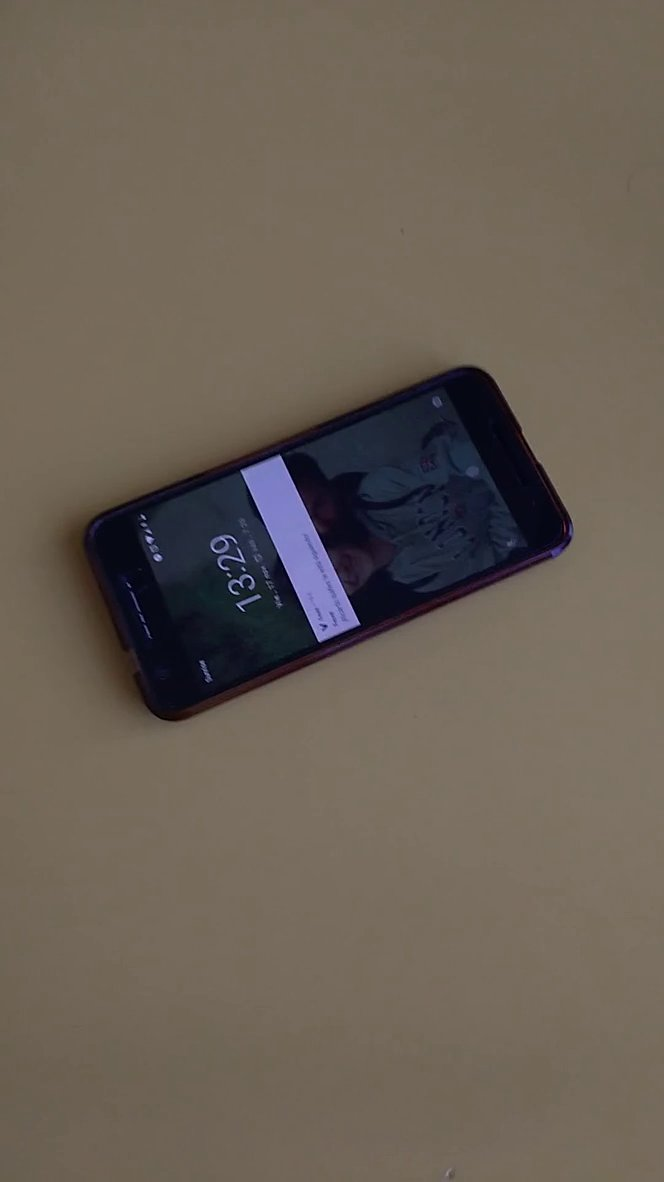phone: (68, 353, 601, 747)
